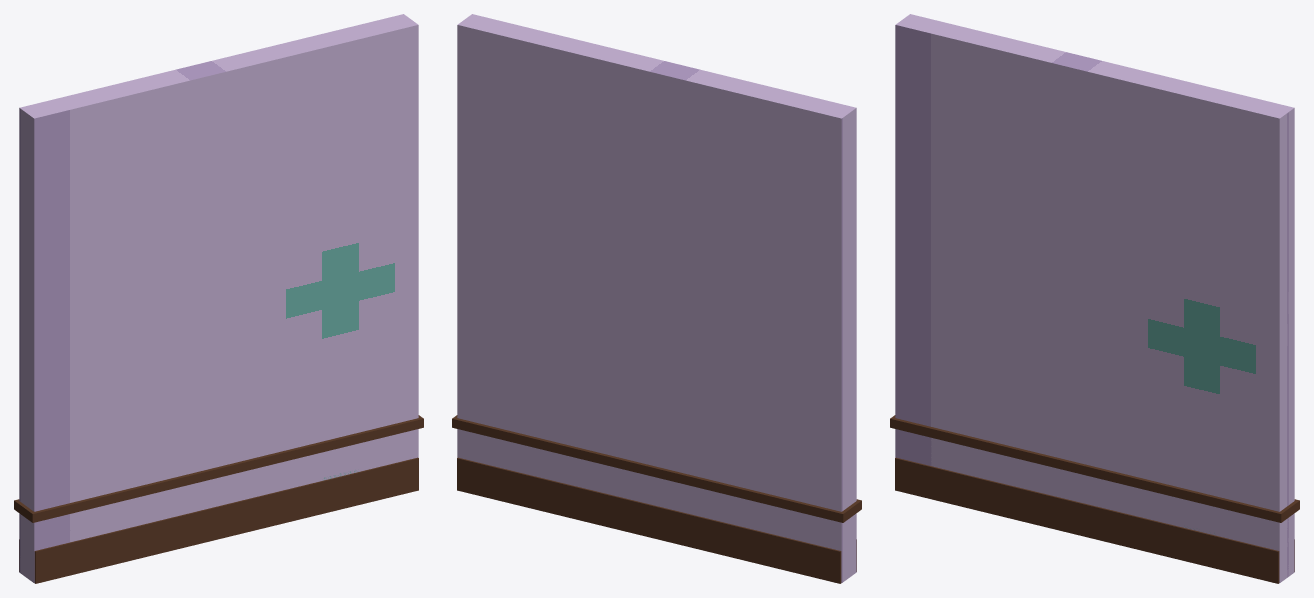
File: bath_north.glb
3 renders of one model, left to right at view 1: azimuth 30°, elevation 25°; view 2: azimuth 150°, elevation 25°; view 3: azimuth 330°, elevation 25°, orthographic.
Visible parts, largest first — view 1: Box1, Box2, Box4, Box3; view 2: Box1, Box2, Box3, Box4; view 3: Box1, Box2, Box3, Box4.
Part boxes in pixels (x1,y1,x2,y2): Box1: (19, 14, 418, 582); Box2: (19, 457, 418, 583); Box4: (14, 415, 423, 522); Box3: (19, 430, 418, 582); Box1: (457, 14, 856, 583); Box2: (457, 457, 856, 583); Box3: (457, 429, 856, 582); Box4: (452, 415, 861, 522); Box1: (895, 14, 1294, 583); Box2: (895, 457, 1294, 583); Box3: (895, 429, 1294, 582); Box4: (890, 415, 1299, 522).
Size of the model in its own units: 2.29 by 2.6 by 0.19.
2 materials, 1 textured.
